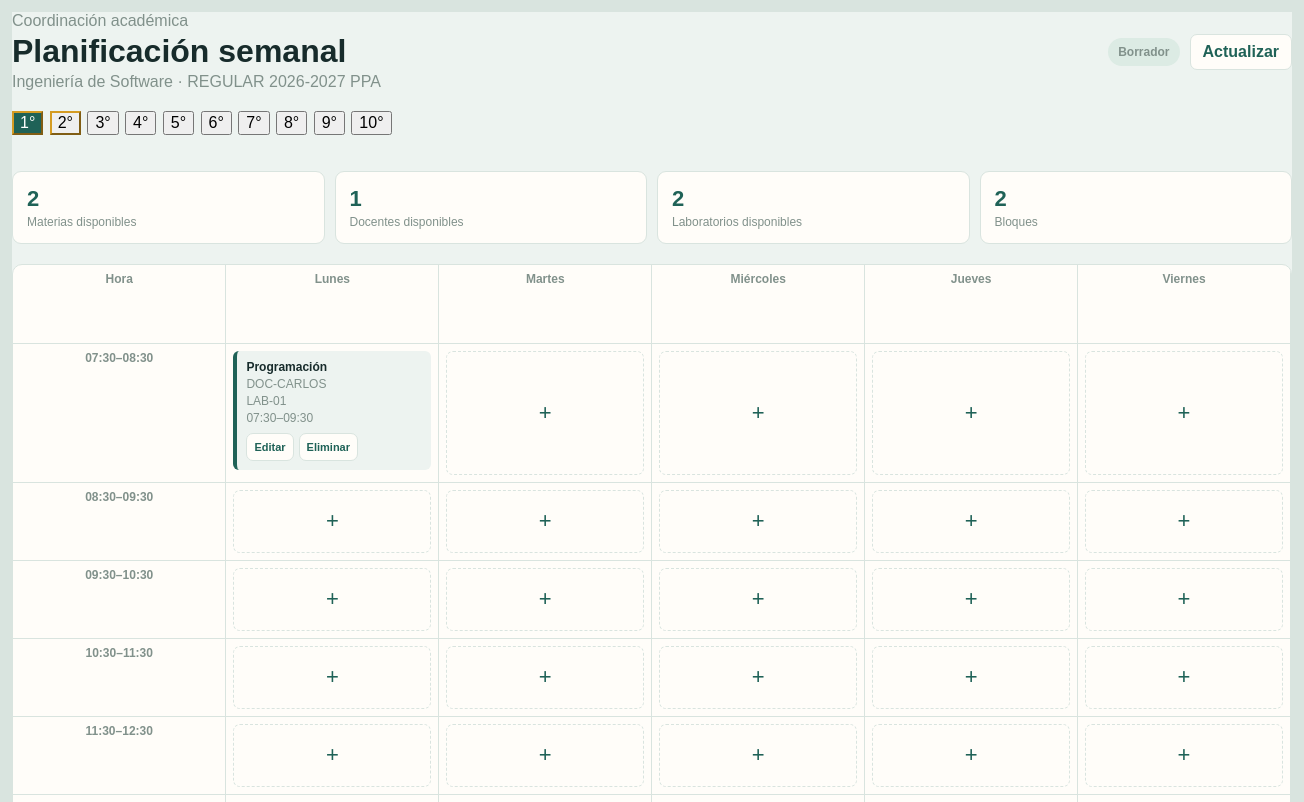
Test: CoordinadorPlanificacion › cambia de nivel y presenta únicamente sus bloques
Expected: the text "Programación" is shown, [246,360,327,374]
Click the button "2°" at (65, 123), box [50,111,81,135]
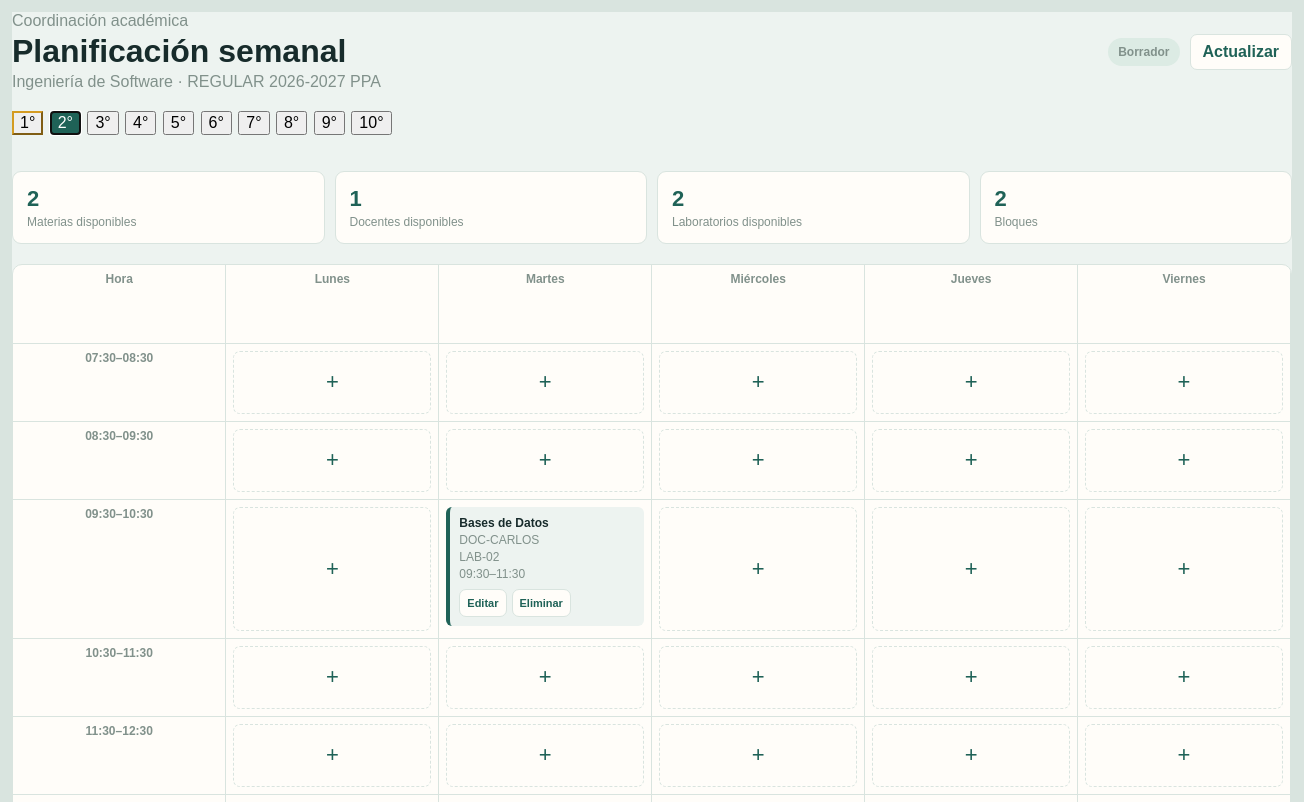
Expected: the text "Bases de Datos" is shown, [459,516,549,530]
Expected: the text "Programaci" is gone
